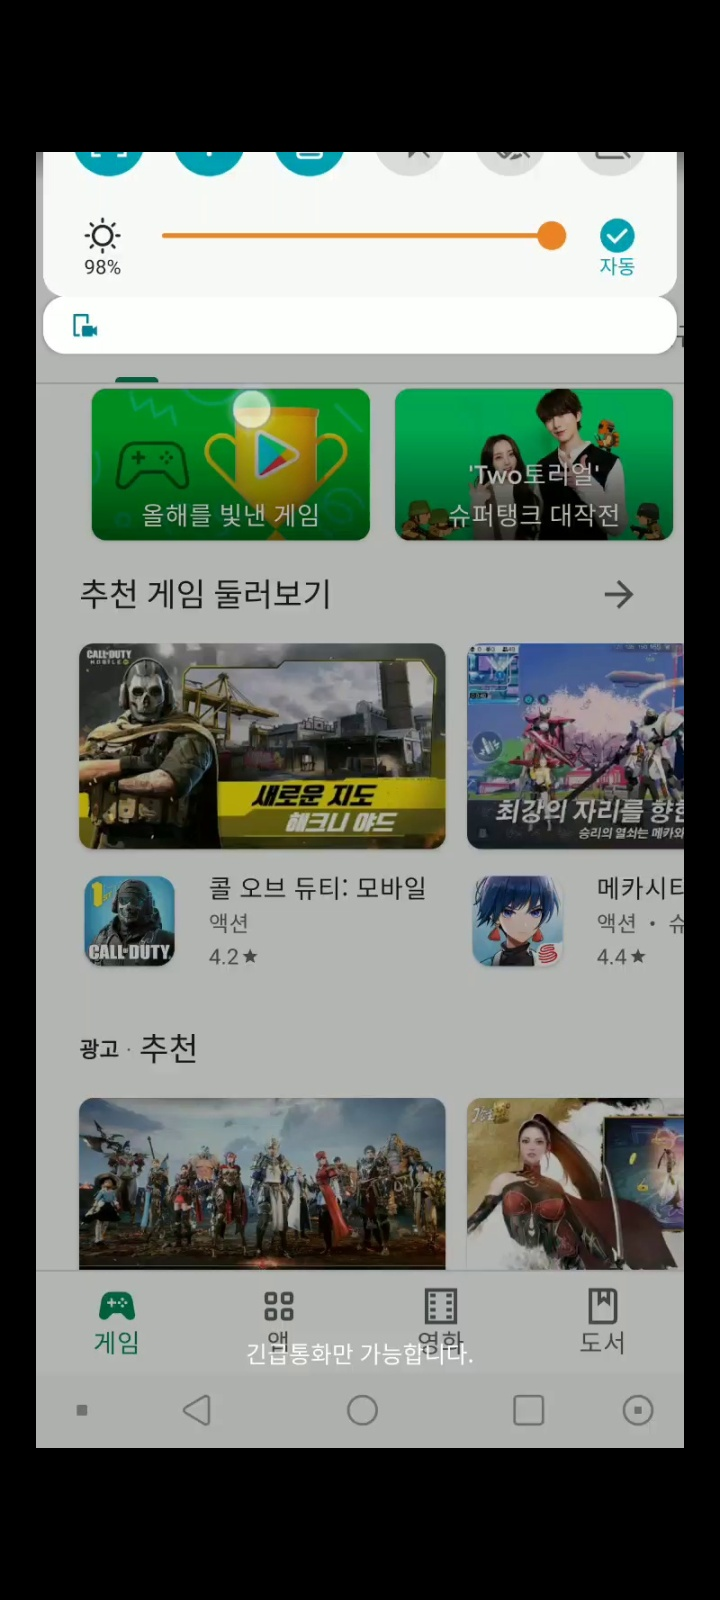Cursor: (232, 387, 276, 432)
